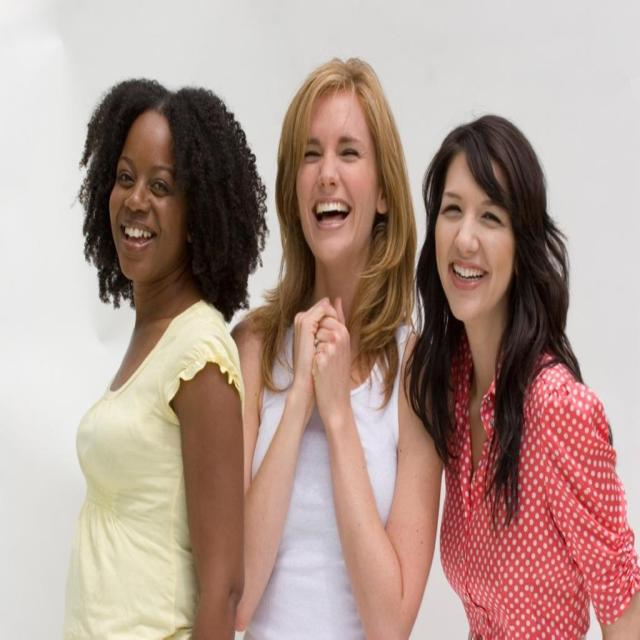Face: (429, 142, 519, 324), (297, 102, 377, 269), (110, 130, 179, 279)
